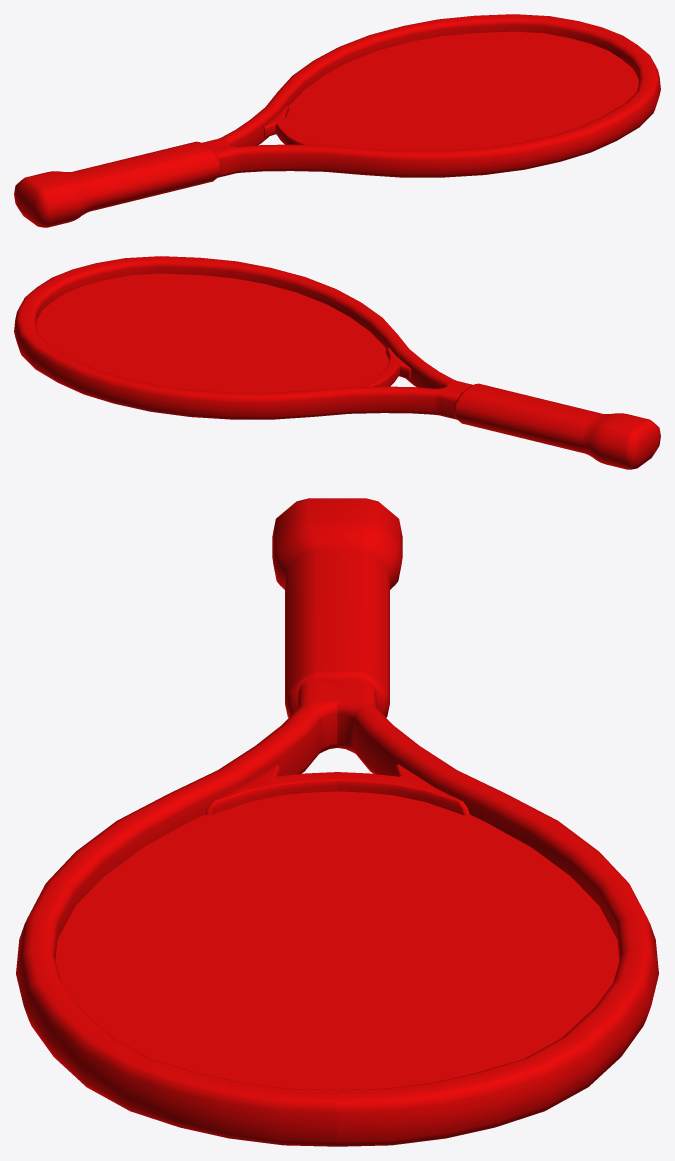
Rendered from thorkea_tennis_racquets_grp.fbx.
3 views of the same model, one above another, from view 1: azimuth 30°, elevation 25°; view 2: azimuth 150°, elevation 25°; view 3: azimuth 270°, elevation 25° (orthographic). The views are drawn at different scales.
Parts seen in each view (by area): view 1: thorkea_tennis_racquet_speed_kids; view 2: thorkea_tennis_racquet_speed_kids; view 3: thorkea_tennis_racquet_speed_kids.
Boxes of the visible parts, x1=… form: thorkea_tennis_racquet_speed_kids: x1=14, y1=14, x2=660, y2=227; thorkea_tennis_racquet_speed_kids: x1=14, y1=256, x2=660, y2=469; thorkea_tennis_racquet_speed_kids: x1=16, y1=498, x2=658, y2=1146.
Bounding box in the file's own units: 53.7 × 3.28 × 24.33.
